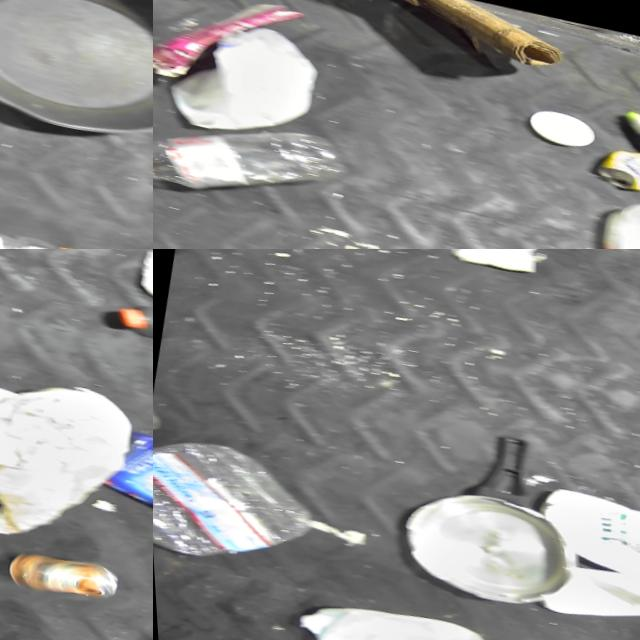can: (3, 546, 117, 606), (587, 141, 640, 197), (125, 249, 153, 309)
milk_jug: (156, 10, 325, 150), (525, 483, 640, 586), (279, 589, 489, 640), (528, 551, 640, 640)
non_white_jug: (153, 0, 309, 102)
plastic_bottle: (153, 87, 355, 231), (153, 429, 320, 579), (108, 280, 153, 356)
